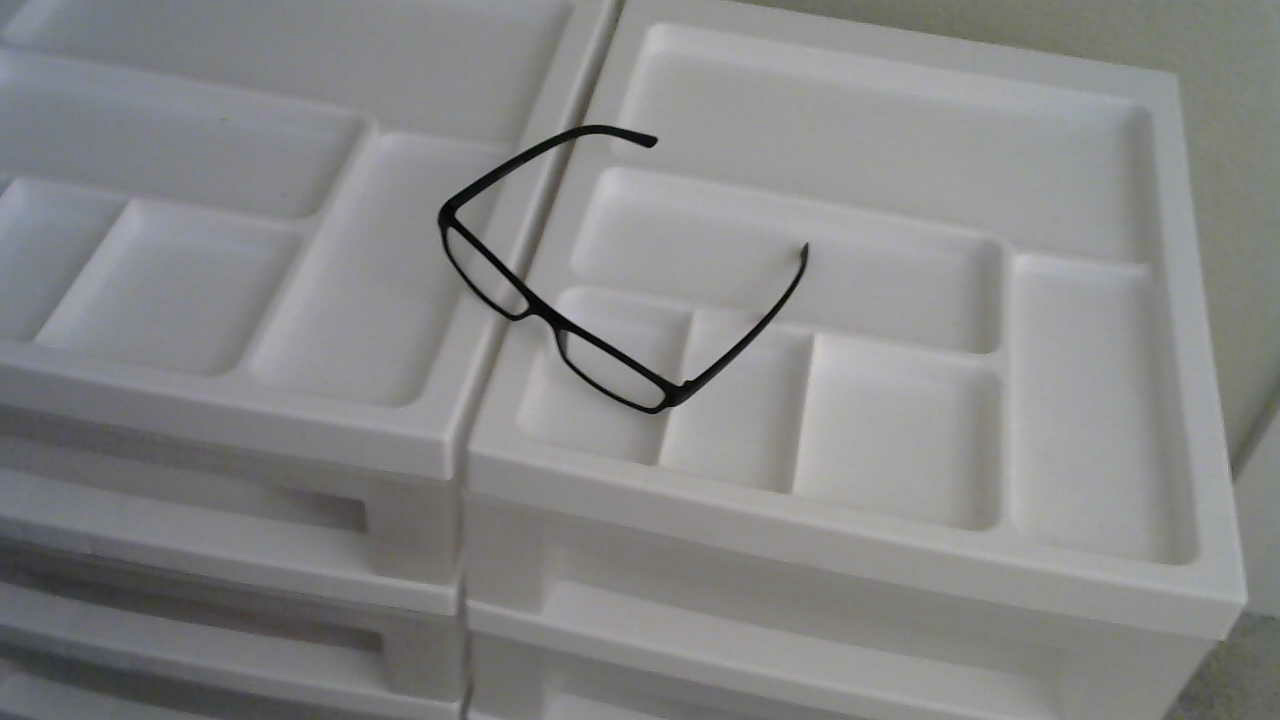Glasses: (424, 107, 828, 433)
